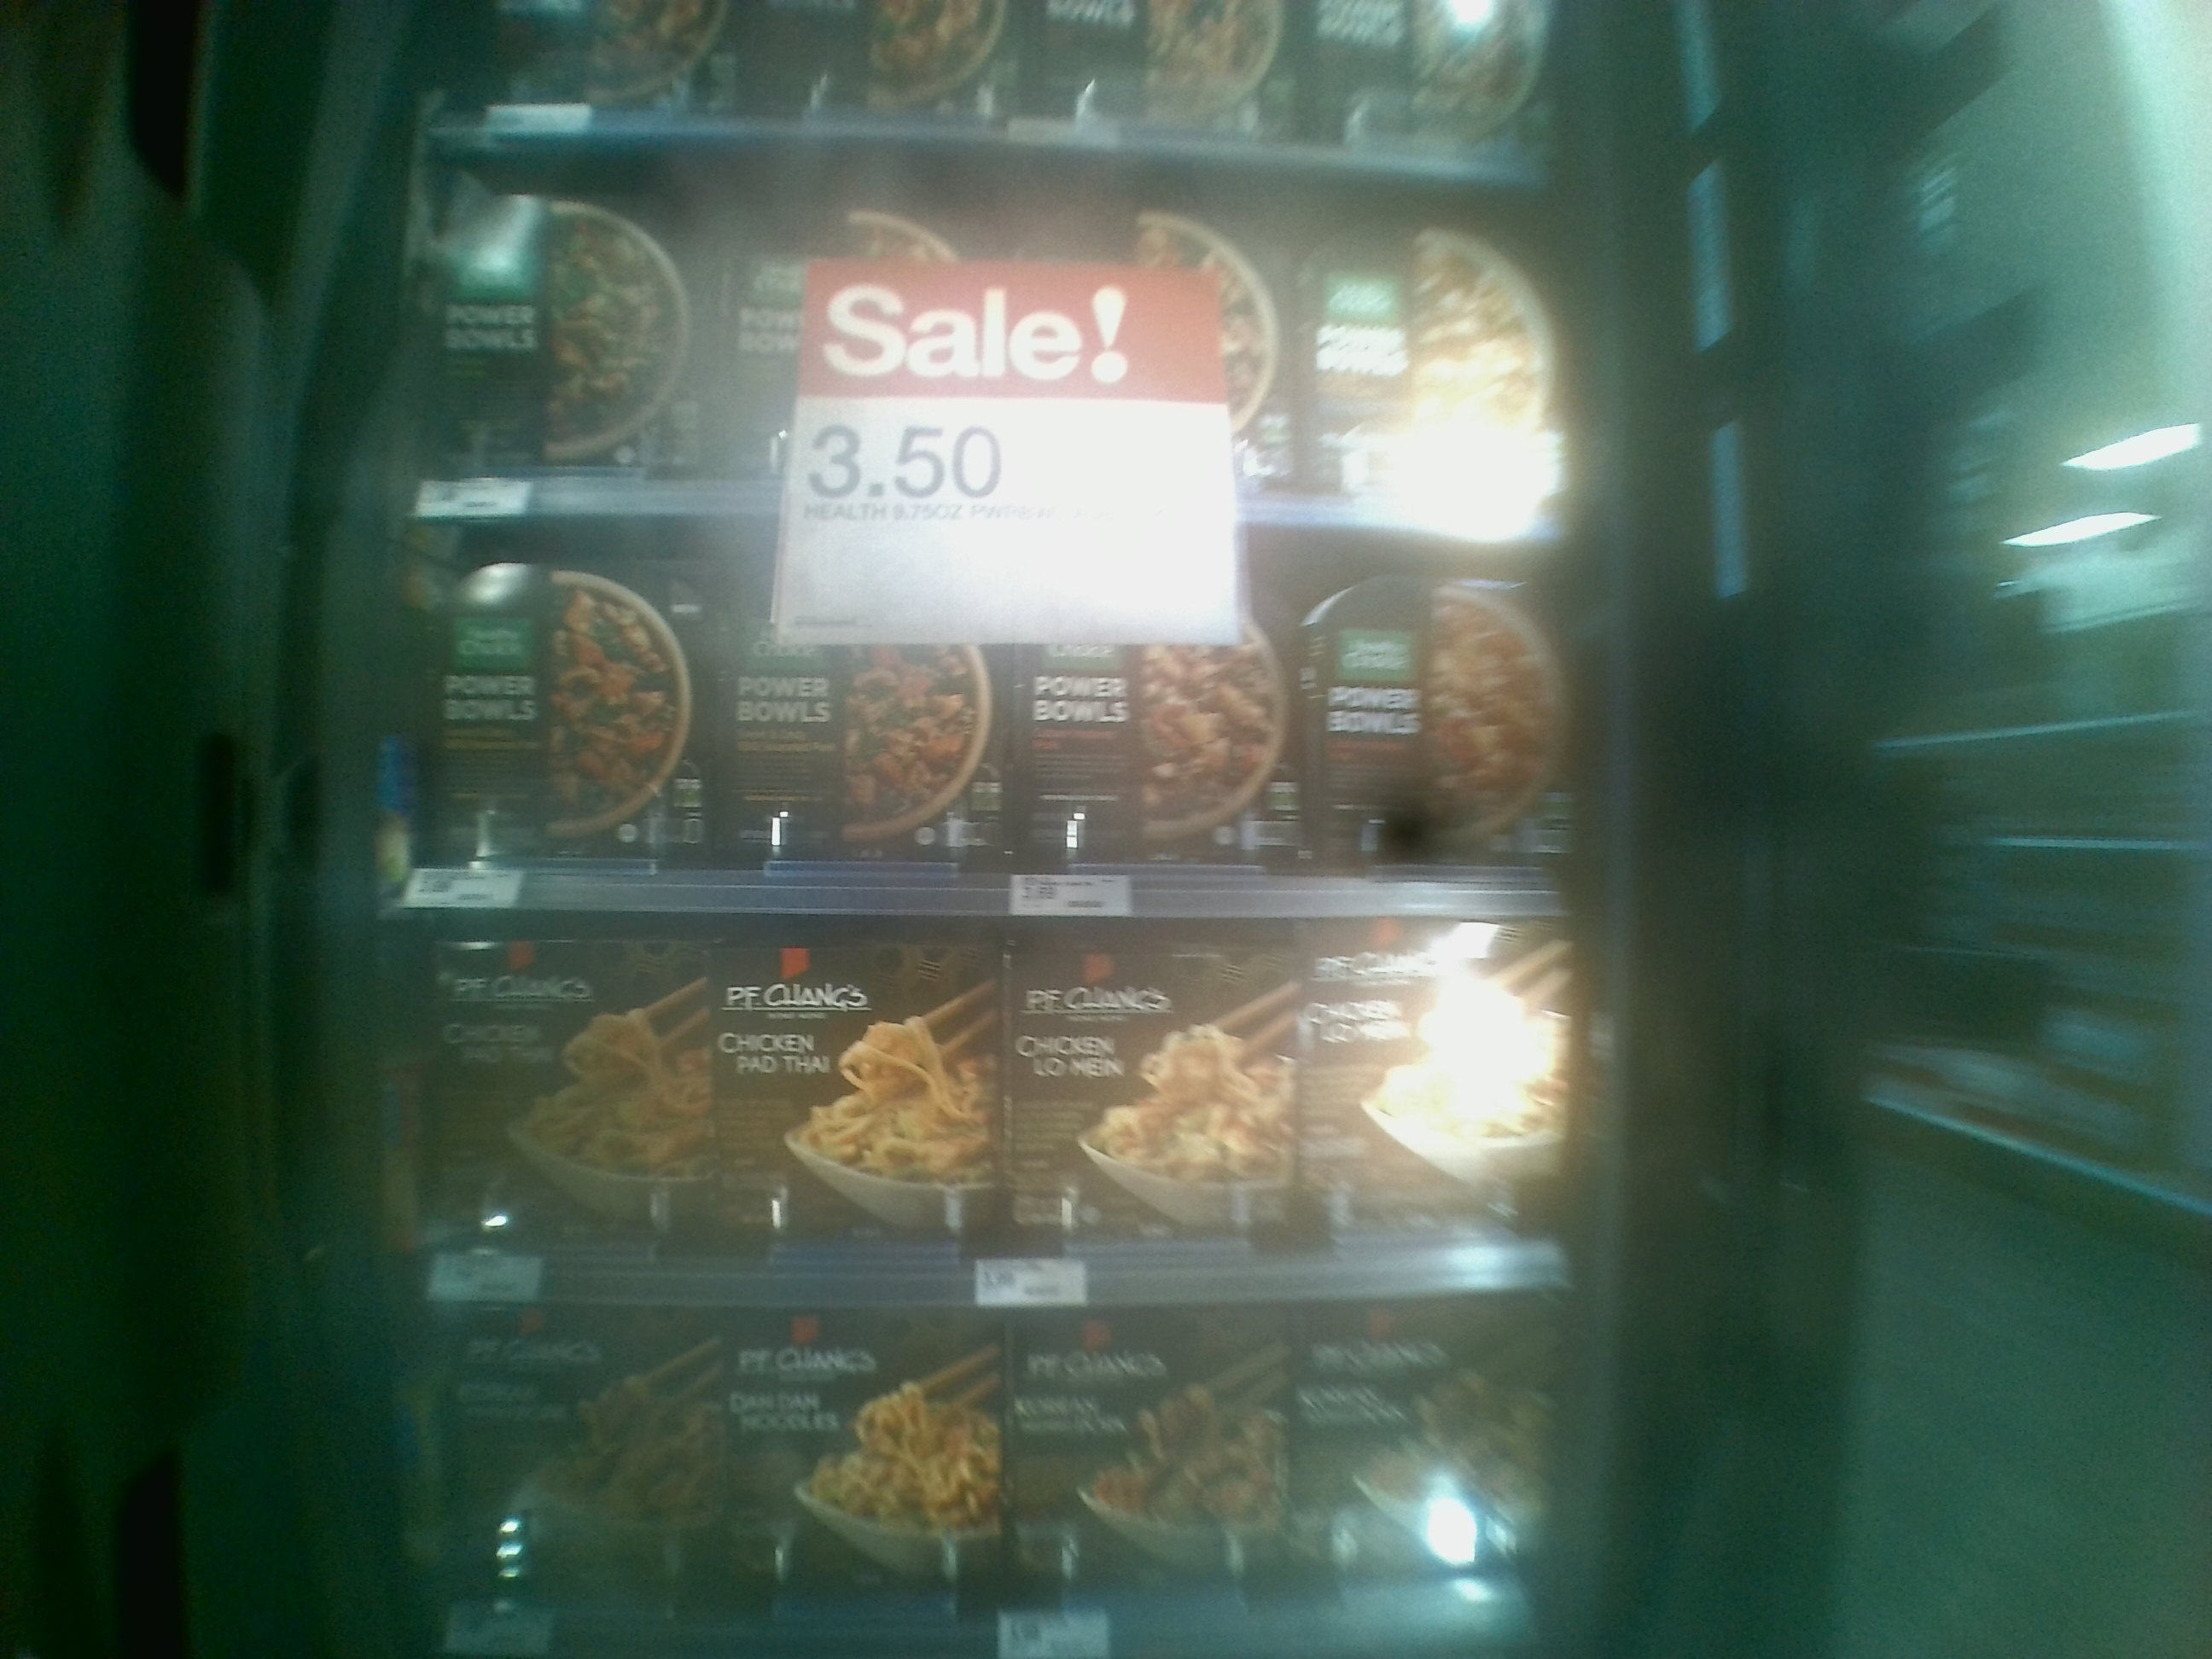shelf: (402, 498, 1573, 922), (416, 892, 1568, 1300)
